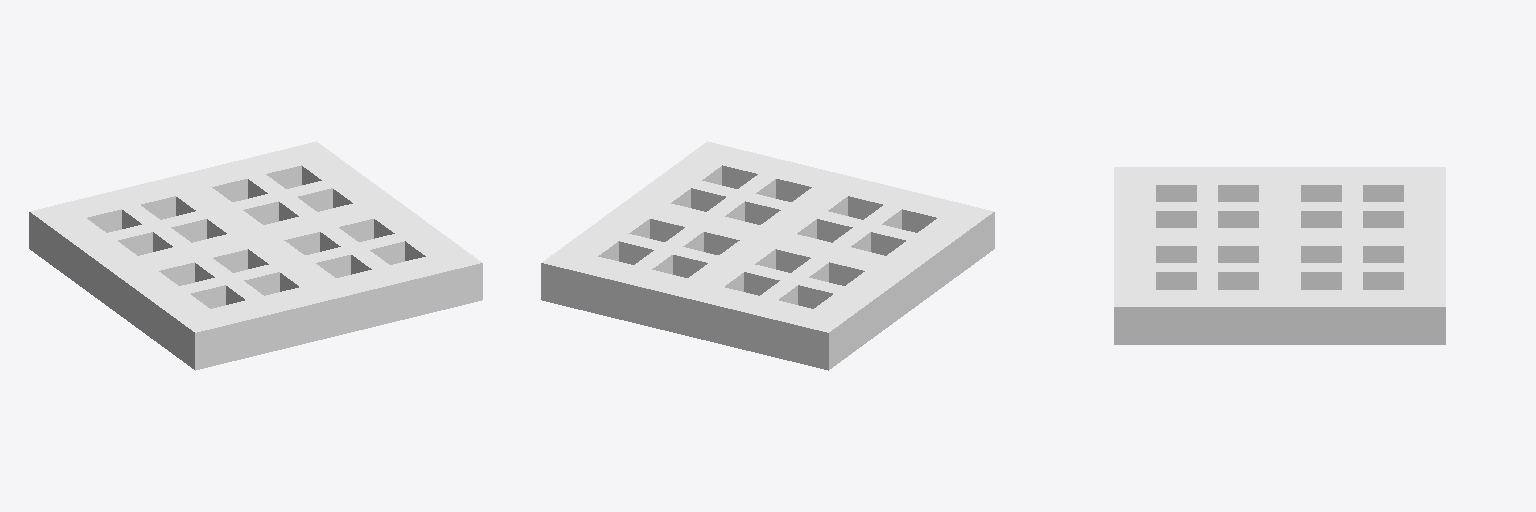
The model's file is block_trap.obj.
3 views of the same model, side by side, from view 1: azimuth 30°, elevation 25°; view 2: azimuth 150°, elevation 25°; view 3: azimuth 270°, elevation 25° (orthographic).
Size of the model in its own units: 1 by 0.125 by 1.